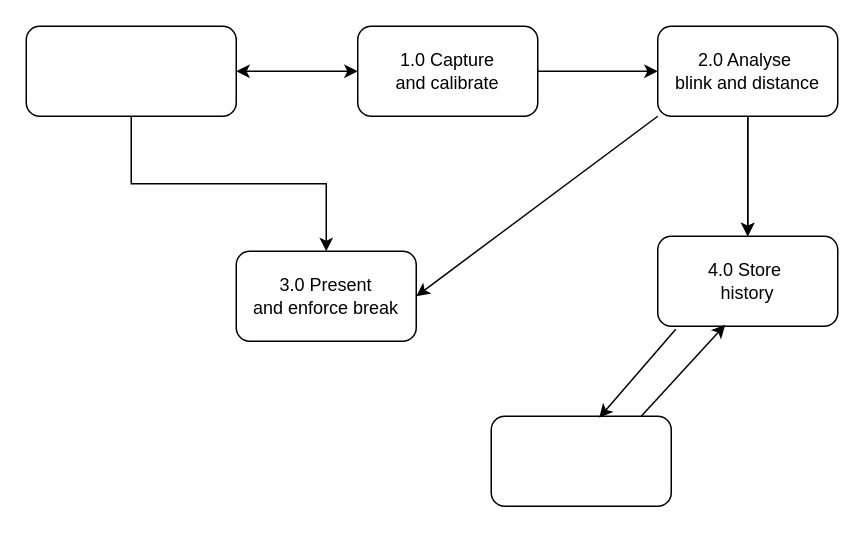
Some shapes in this 864 by 533 pixel diagram are drawn without their labels. Each missing label, with the centre of its shape:
"D1 local metrics IndexedDB" goes at [580,460].
"User" goes at [130,70].
